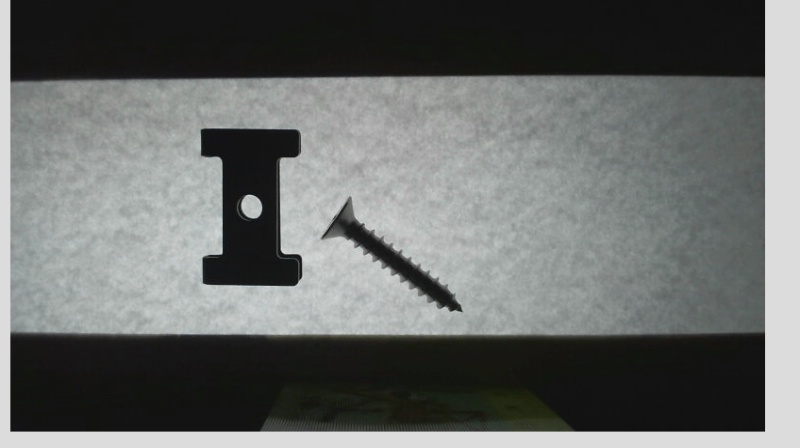O002: (195, 124, 306, 289)
S001: (318, 193, 468, 318)
